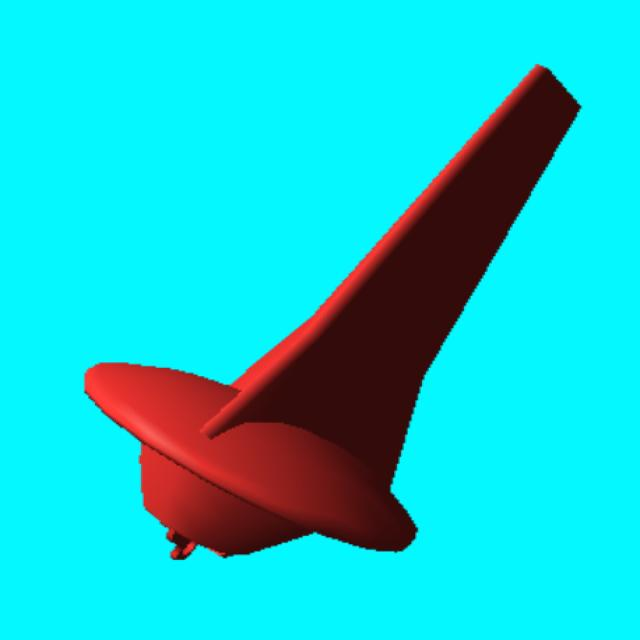RedBuoy: (86, 67, 579, 558)
